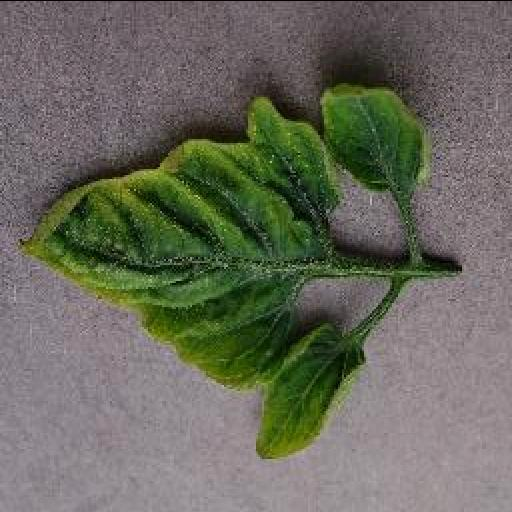disease_tomato: (20, 96, 340, 388), (254, 315, 366, 461), (317, 82, 431, 202)
